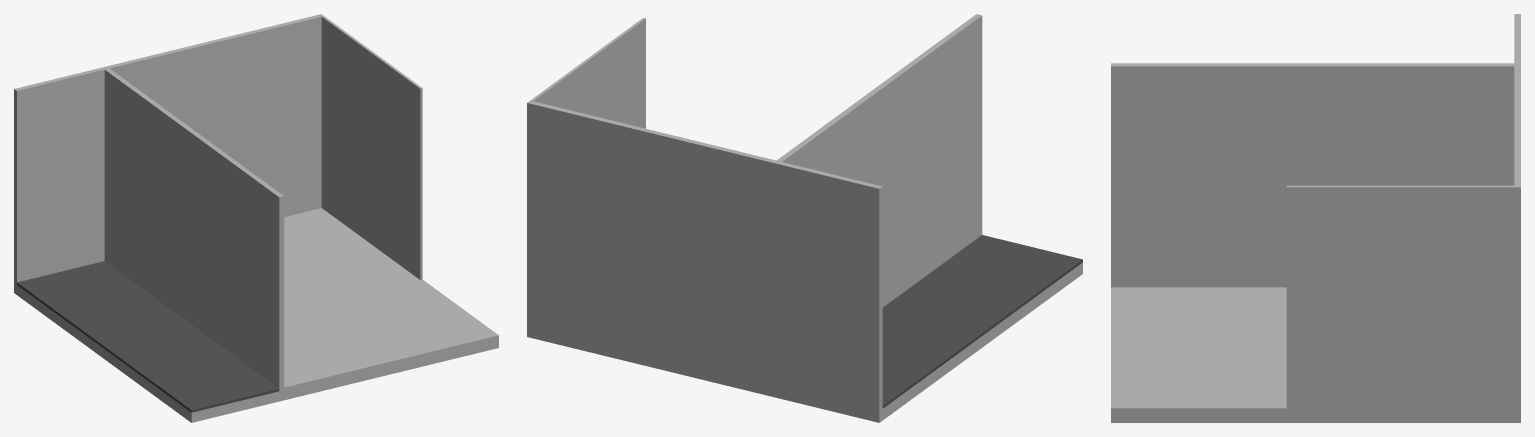
Rendered from 4x2 first (1)-2.obj.
The picture shows the model from 3 angles, left to right: view 1: azimuth 30°, elevation 25°; view 2: azimuth 150°, elevation 25°; view 3: azimuth 270°, elevation 25°; orthographic projection. The views are drawn at different scales.
Visible parts, largest first — view 1: 4x2 first (1)-2; view 2: 4x2 first (1)-2; view 3: 4x2 first (1)-2.
Part boxes in pixels (x1,y1,x2,y2): 4x2 first (1)-2: (14, 14, 498, 422); 4x2 first (1)-2: (527, 14, 1082, 422); 4x2 first (1)-2: (1111, 14, 1520, 422).
Bounding box in the file's own units: 126 × 80 × 126.
1 material, 1 textured.
